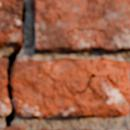brick: (32, 0, 129, 52), (0, 0, 23, 47), (0, 126, 24, 129)
broken_brick: (12, 57, 129, 118), (0, 58, 8, 117)
crack: (0, 2, 26, 127)
